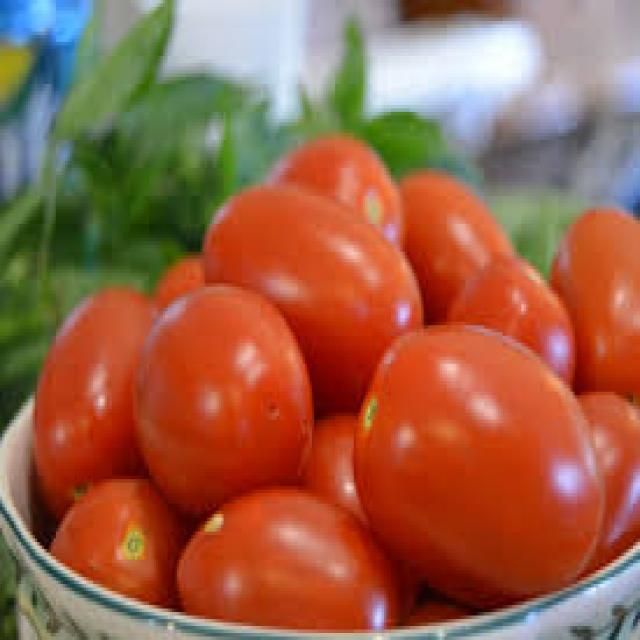Fresh_tomato: (410, 307, 602, 596), (210, 179, 404, 365), (184, 483, 395, 631), (150, 294, 304, 472), (57, 262, 149, 477), (83, 455, 209, 605), (564, 188, 640, 414), (409, 160, 525, 304)
